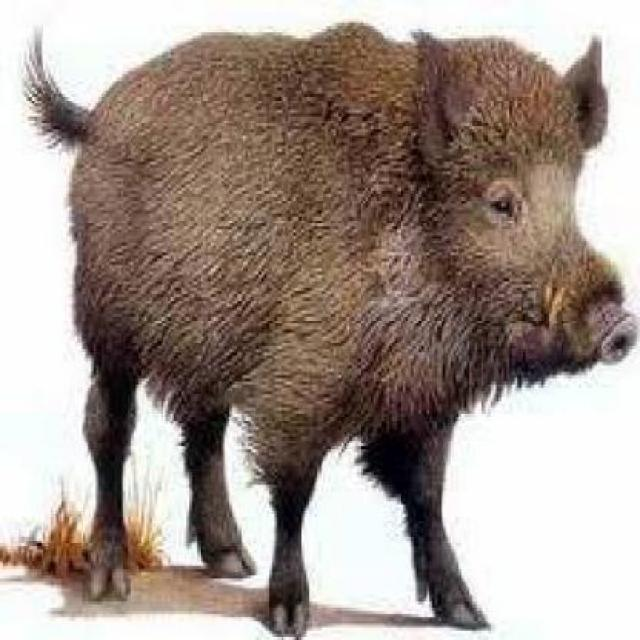Wild Boar: (12, 9, 640, 638)
